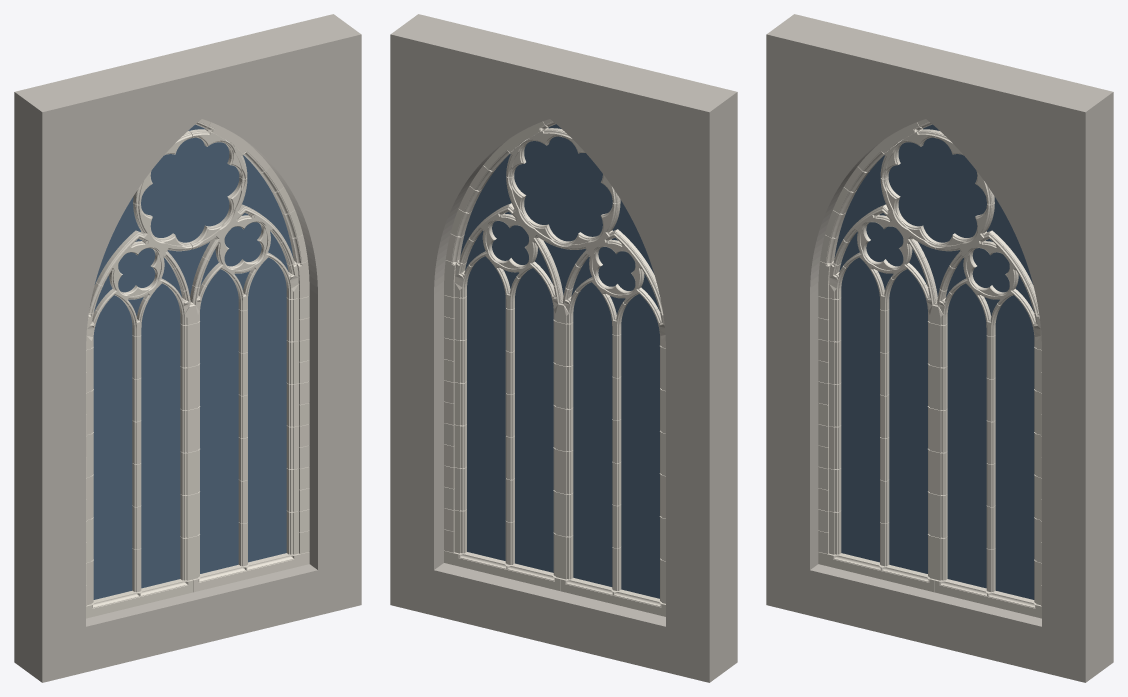
The model's file is bar_4light_recursive.glb.
3 renders of one model, left to right at view 1: azimuth 30°, elevation 25°; view 2: azimuth 150°, elevation 25°; view 3: azimuth 330°, elevation 25°, orthographic.
Visible parts, largest first — view 1: bar_4light_recursive__wall, bar_4light_recursive__glass, bar_4light_recursive__stone_T003, bar_4light_recursive__stone_T004, bar_4light_recursive__stone_F040, bar_4light_recursive__stone_F039, bar_4light_recursive__stone_T036, bar_4light_recursive__stone_T031, bar_4light_recursive__stone_T016, bar_4light_recursive__stone_T021, bar_4light_recursive__stone_T026, bar_4light_recursive__stone_T041 (+9 smaller); view 2: bar_4light_recursive__wall, bar_4light_recursive__glass, bar_4light_recursive__stone_T003, bar_4light_recursive__stone_T004, bar_4light_recursive__stone_F040, bar_4light_recursive__stone_F039, bar_4light_recursive__stone_T031, bar_4light_recursive__stone_T016, bar_4light_recursive__stone_T021, bar_4light_recursive__stone_T026, bar_4light_recursive__stone_T041, bar_4light_recursive__stone_T036 (+9 smaller); view 3: bar_4light_recursive__wall, bar_4light_recursive__glass, bar_4light_recursive__stone_T004, bar_4light_recursive__stone_T003, bar_4light_recursive__stone_F039, bar_4light_recursive__stone_F040, bar_4light_recursive__stone_T036, bar_4light_recursive__stone_T031, bar_4light_recursive__stone_T016, bar_4light_recursive__stone_T021, bar_4light_recursive__stone_T026, bar_4light_recursive__stone_T041 (+9 smaller).
Part boxes in pixels (x1=…): bar_4light_recursive__wall: x1=14, y1=14, x2=361, y2=682; bar_4light_recursive__glass: x1=93, y1=124, x2=293, y2=599; bar_4light_recursive__stone_T003: x1=189, y1=177, x2=284, y2=286; bar_4light_recursive__stone_T004: x1=95, y1=203, x2=192, y2=312; bar_4light_recursive__stone_F040: x1=192, y1=552, x2=309, y2=592; bar_4light_recursive__stone_F039: x1=86, y1=579, x2=193, y2=618; bar_4light_recursive__stone_T036: x1=180, y1=492, x2=199, y2=538; bar_4light_recursive__stone_T031: x1=180, y1=449, x2=199, y2=495; bar_4light_recursive__stone_T016: x1=180, y1=321, x2=199, y2=367; bar_4light_recursive__stone_T021: x1=180, y1=364, x2=199, y2=410; bar_4light_recursive__stone_T026: x1=180, y1=406, x2=199, y2=452; bar_4light_recursive__stone_T041: x1=180, y1=534, x2=199, y2=580; bar_4light_recursive__wall: x1=390, y1=14, x2=737, y2=682; bar_4light_recursive__glass: x1=460, y1=124, x2=659, y2=598; bar_4light_recursive__stone_T003: x1=469, y1=176, x2=564, y2=284; bar_4light_recursive__stone_T004: x1=561, y1=202, x2=657, y2=311; bar_4light_recursive__stone_F040: x1=444, y1=550, x2=560, y2=590; bar_4light_recursive__stone_F039: x1=560, y1=577, x2=665, y2=616; bar_4light_recursive__stone_T031: x1=553, y1=448, x2=573, y2=494; bar_4light_recursive__stone_T016: x1=553, y1=320, x2=573, y2=366; bar_4light_recursive__stone_T021: x1=553, y1=363, x2=573, y2=409; bar_4light_recursive__stone_T026: x1=553, y1=405, x2=573, y2=451; bar_4light_recursive__stone_T041: x1=553, y1=533, x2=573, y2=579; bar_4light_recursive__stone_T036: x1=553, y1=490, x2=573, y2=536; bar_4light_recursive__wall: x1=766, y1=14, x2=1113, y2=682; bar_4light_recursive__glass: x1=834, y1=124, x2=1034, y2=599; bar_4light_recursive__stone_T004: x1=843, y1=177, x2=938, y2=286; bar_4light_recursive__stone_T003: x1=935, y1=203, x2=1032, y2=312; bar_4light_recursive__stone_F039: x1=818, y1=552, x2=935, y2=592; bar_4light_recursive__stone_F040: x1=934, y1=579, x2=1041, y2=618; bar_4light_recursive__stone_T036: x1=928, y1=492, x2=947, y2=538; bar_4light_recursive__stone_T031: x1=928, y1=449, x2=947, y2=495; bar_4light_recursive__stone_T016: x1=928, y1=321, x2=947, y2=367; bar_4light_recursive__stone_T021: x1=928, y1=364, x2=947, y2=410; bar_4light_recursive__stone_T026: x1=928, y1=406, x2=947, y2=452; bar_4light_recursive__stone_T041: x1=928, y1=534, x2=947, y2=580.
Size of the model in its own units: 6600 by 11280 by 1000.
